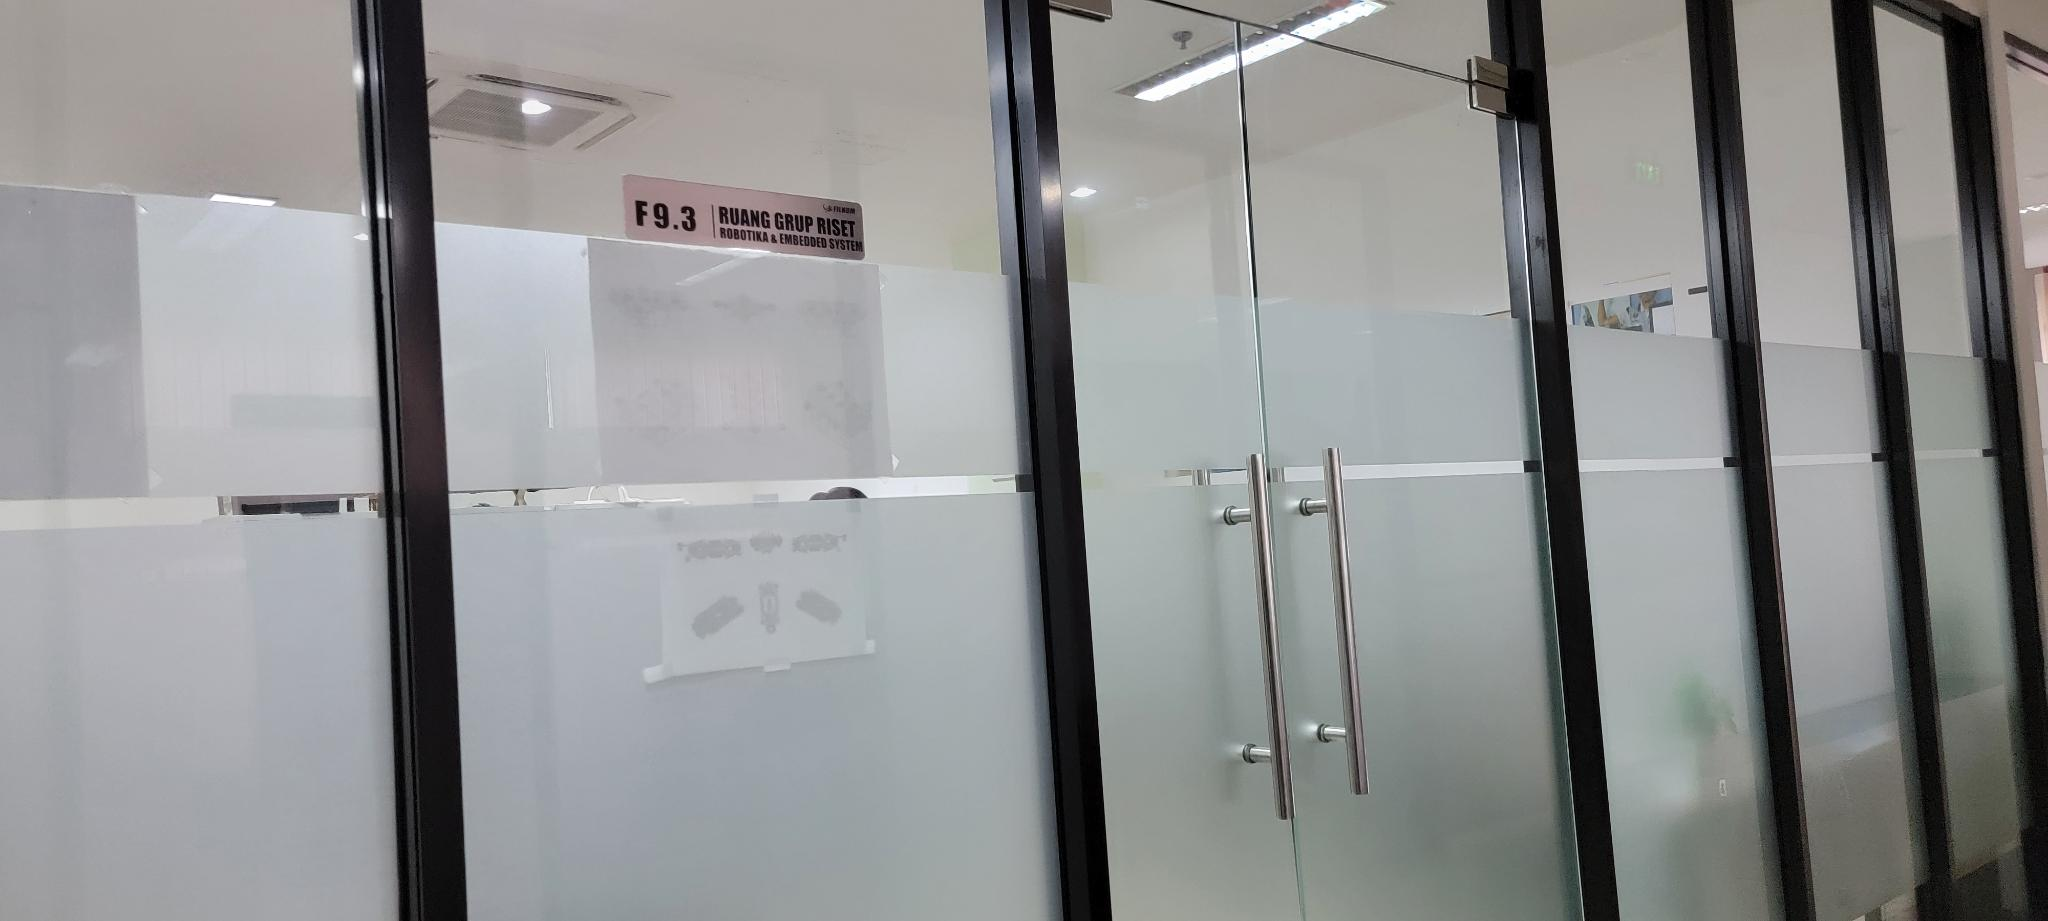plate: (623, 175, 862, 264)
